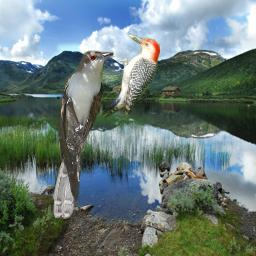Cuckoo: (51, 48, 115, 219)
Woodpecker: (96, 31, 160, 123)
